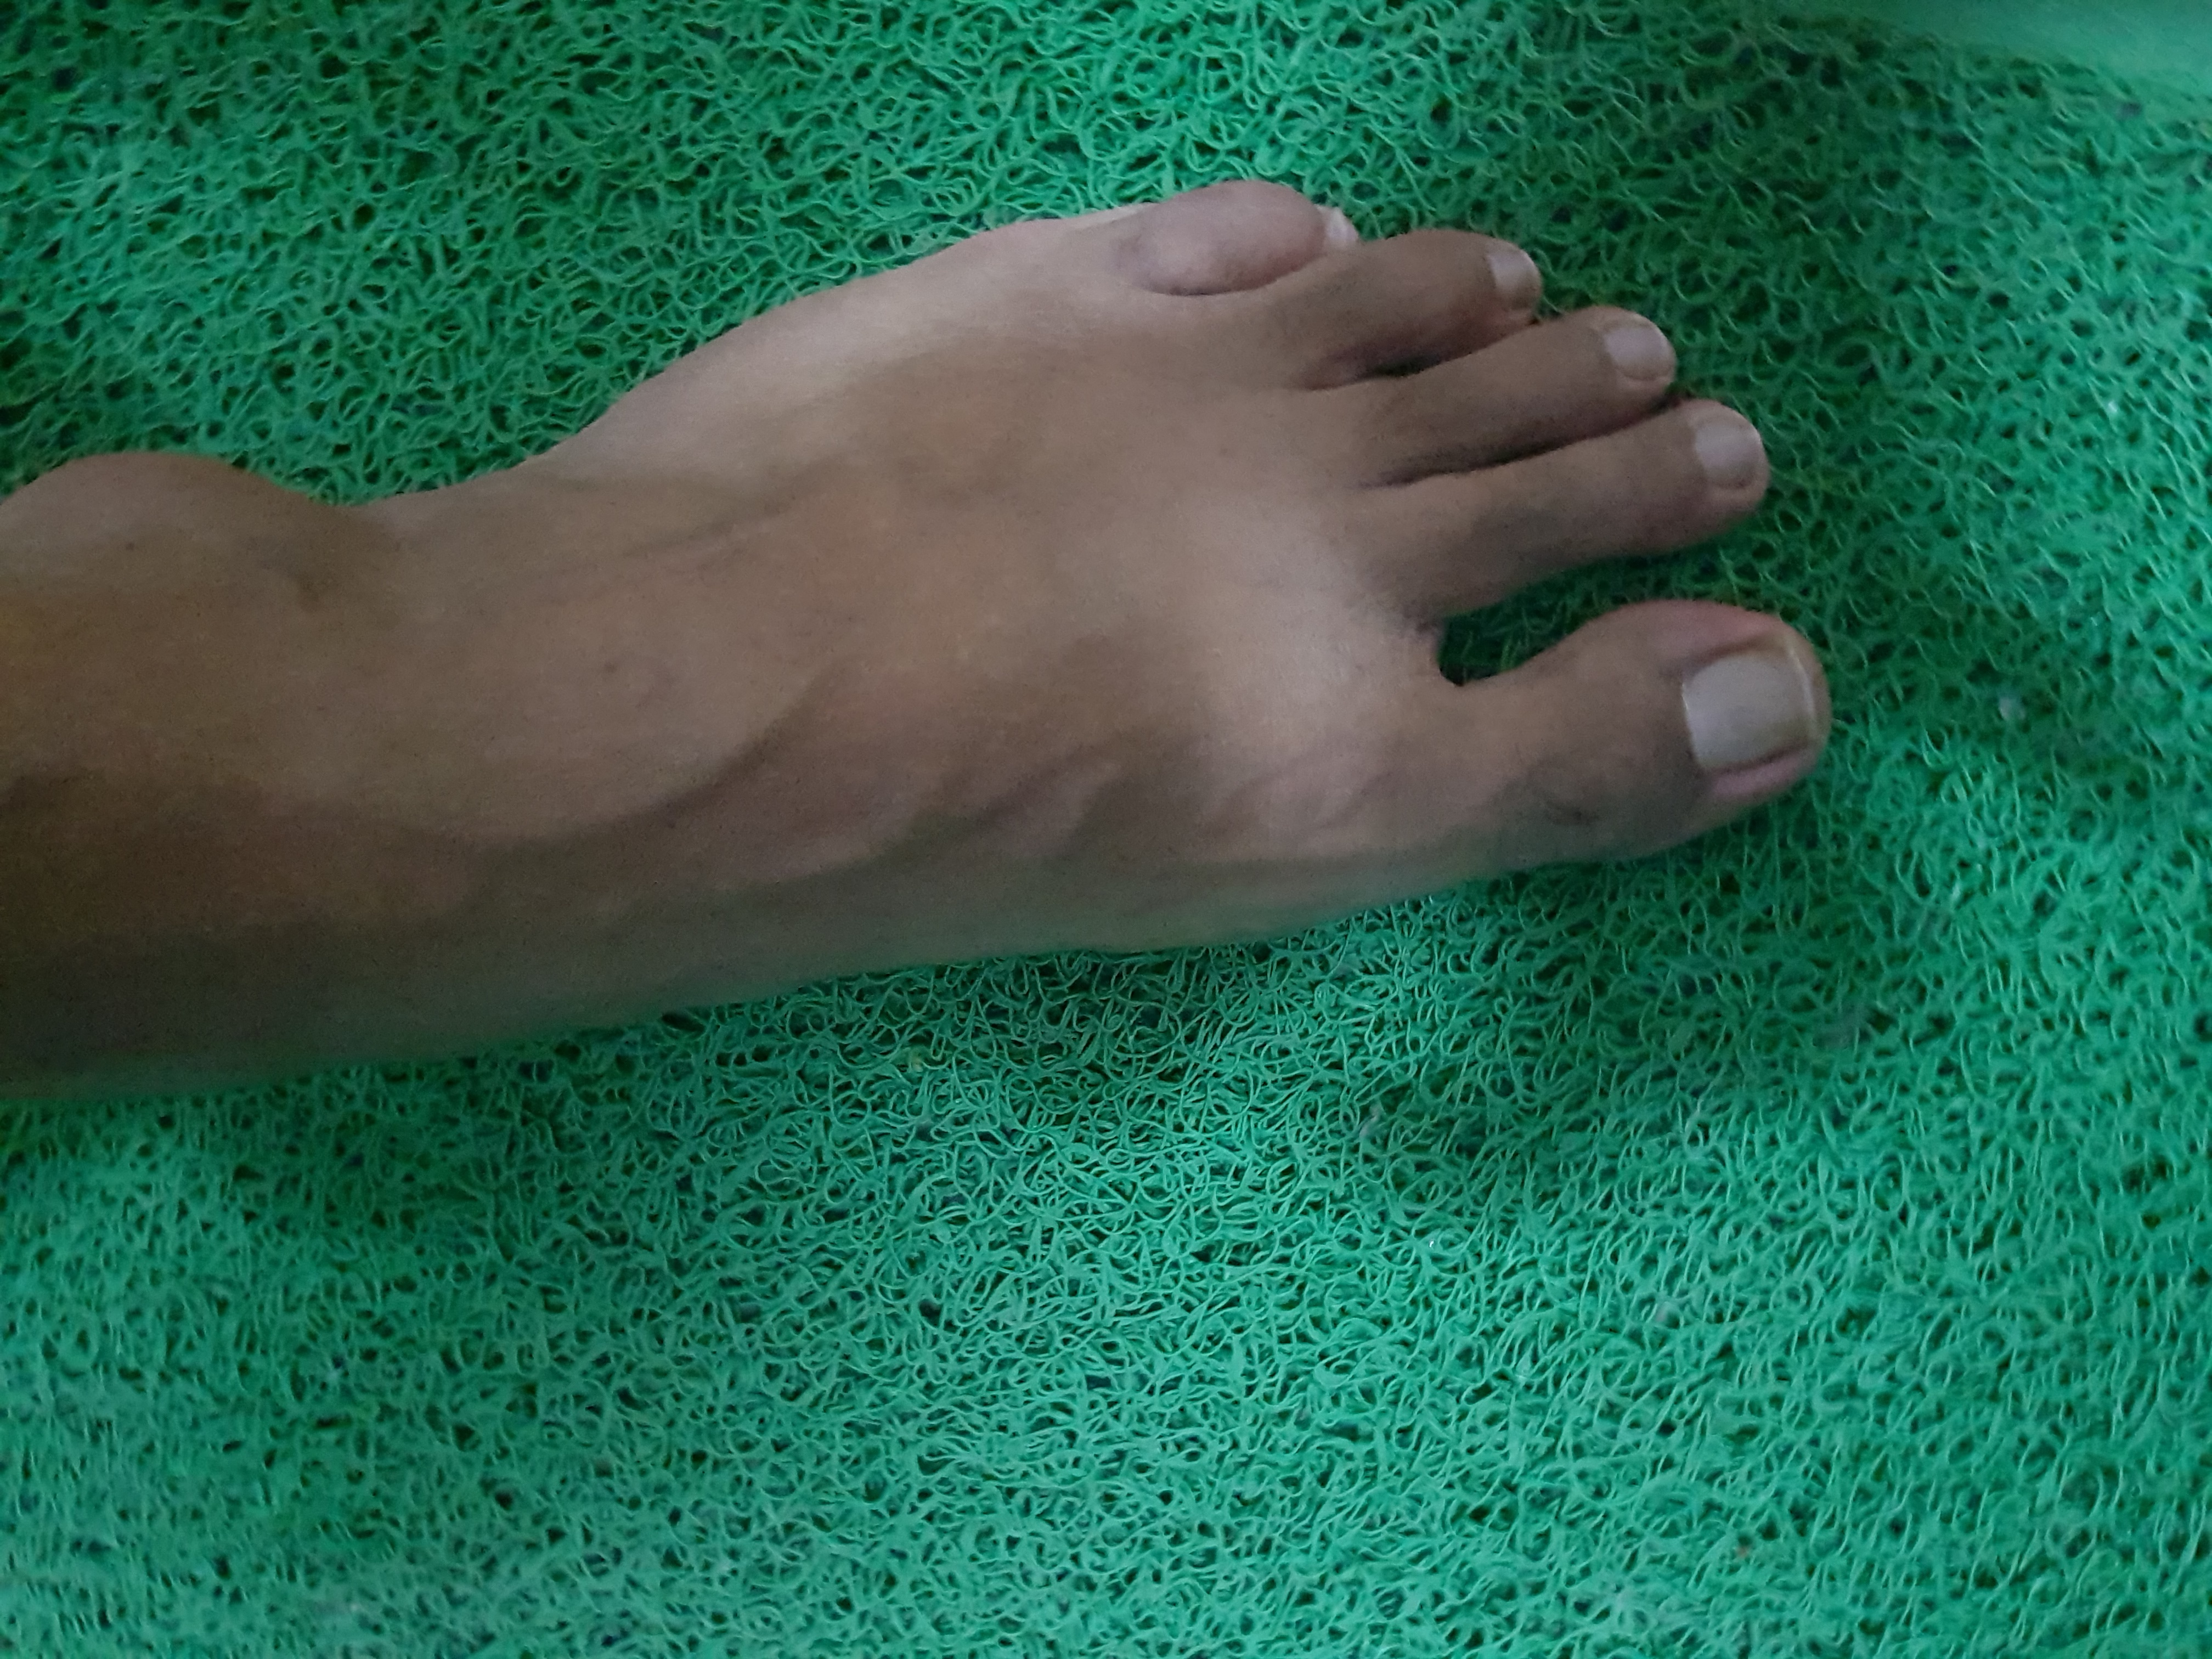feet: (28, 33, 1846, 1091)
